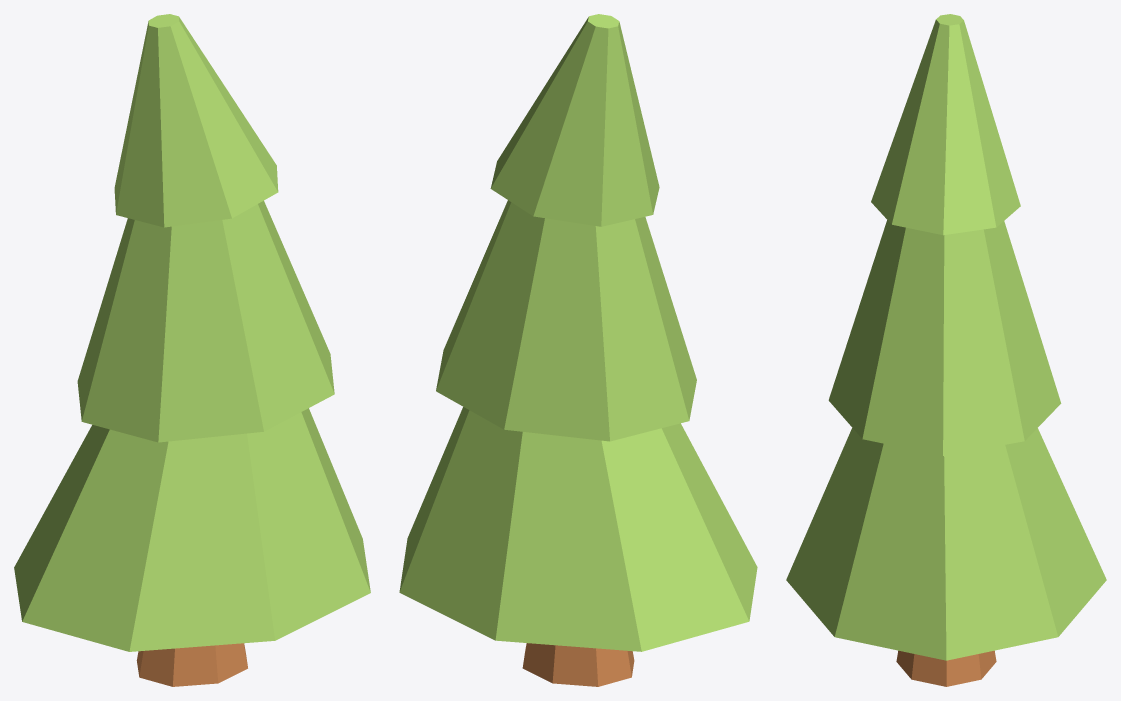
File: tree02.fbx
3 renders of one model, left to right at view 1: azimuth 30°, elevation 25°; view 2: azimuth 150°, elevation 25°; view 3: azimuth 270°, elevation 25°, orthographic. The views are drawn at different scales.
Parts seen in each view (by area): view 1: Plane; view 2: Plane; view 3: Plane.
Boxes of the visible parts, box(x1,y1,x2,y2) form: Plane: box(14, 14, 370, 686); Plane: box(399, 14, 757, 686); Plane: box(786, 14, 1106, 686).
Bounding box in the file's own units: 0.5651 × 1.03 × 0.475.
